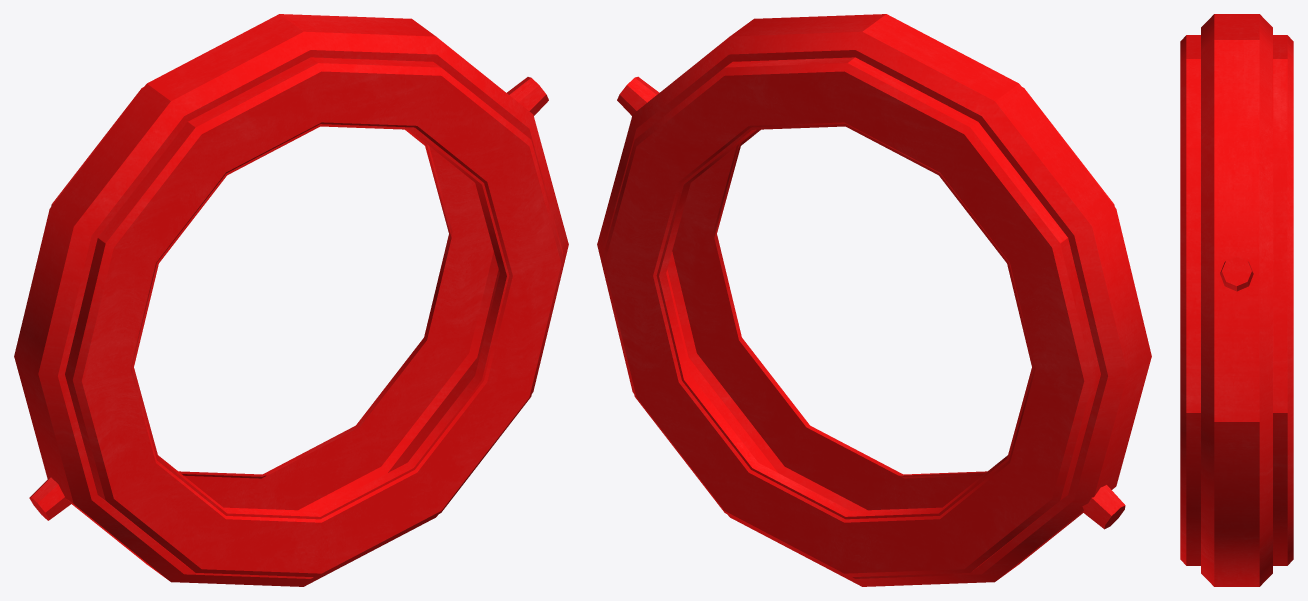
Rendered from STRAYKIDS_05.glb.
3 views of the same model, side by side, from view 1: azimuth 30°, elevation 25°; view 2: azimuth 150°, elevation 25°; view 3: azimuth 270°, elevation 25° (orthographic). The views are drawn at different scales.
Visible parts, largest first — view 1: STRAYKIDS_05; view 2: STRAYKIDS_05; view 3: STRAYKIDS_05.
Boxes of the visible parts, <box> form: STRAYKIDS_05: <box>14,14,568,586</box>; STRAYKIDS_05: <box>597,14,1151,586</box>; STRAYKIDS_05: <box>1180,14,1293,586</box>.
Size of the model in its own units: 0.1709 by 0.1709 by 0.0337.
1 material, 1 textured.
